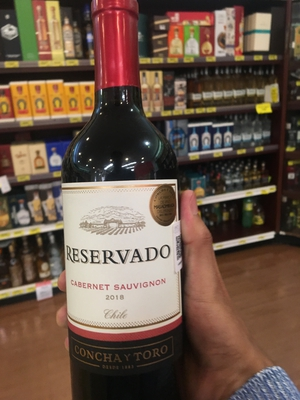reservado cabernet sauvignon: (61, 24, 189, 400)
